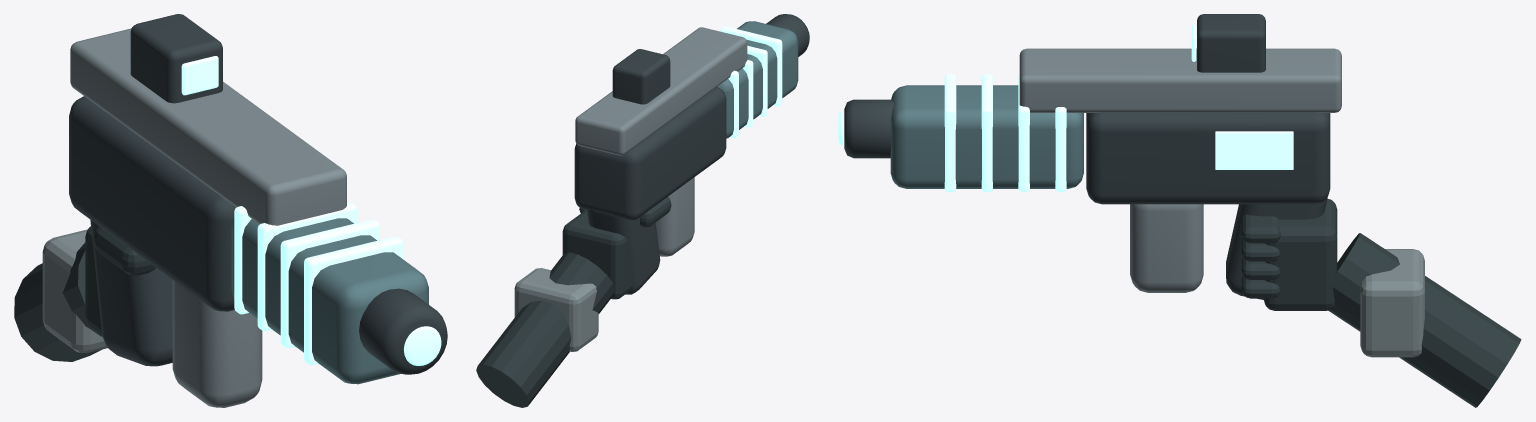
Rendered from pulse-carbine.fbx.
The picture shows the model from 3 angles, left to right: view 1: azimuth 30°, elevation 25°; view 2: azimuth 150°, elevation 25°; view 3: azimuth 270°, elevation 25°; orthographic projection. The views are drawn at different scales.
Parts seen in each view (by area): view 1: Upper rail, Receiver, Coil jacket, Magazine, Grip, Holographic sight, Emitter barrel, Sleeve, Armored cuff, Coil winding.002, Coil winding.003, Coil winding.001 (+5 smaller); view 2: Receiver, Upper rail, Sleeve, Coil jacket, Armored cuff, Gloved palm, Holographic sight, Grip, Magazine, Coil winding.003, Emitter barrel, Coil winding.002 (+3 smaller); view 3: Receiver, Upper rail, Coil jacket, Sleeve, Magazine, Armored cuff, Gloved palm, Holographic sight, Status screen, Emitter barrel, Grip, Coil winding.003 (+7 smaller).
Part boxes in pixels (left/top/right/bottom): Upper rail: left=70, top=28, right=346, bottom=225; Receiver: left=69, top=96, right=235, bottom=311; Coil jacket: left=231, top=218, right=428, bottom=384; Magazine: left=172, top=280, right=262, bottom=407; Grip: left=90, top=220, right=172, bottom=366; Holographic sight: left=130, top=14, right=222, bottom=103; Emitter barrel: left=359, top=288, right=447, bottom=374; Sleeve: left=14, top=242, right=102, bottom=361; Armored cuff: left=42, top=229, right=107, bottom=353; Coil winding.002: left=280, top=219, right=379, bottom=348; Coil winding.003: left=304, top=236, right=403, bottom=365; Coil winding.001: left=257, top=202, right=356, bottom=331; Receiver: left=574, top=87, right=726, bottom=220; Upper rail: left=575, top=27, right=747, bottom=155; Sleeve: left=476, top=252, right=615, bottom=407; Coil jacket: left=717, top=21, right=798, bottom=138; Armored cuff: left=514, top=268, right=598, bottom=351; Gloved palm: left=562, top=210, right=632, bottom=299; Holographic sight: left=612, top=49, right=670, bottom=104; Grip: left=587, top=209, right=660, bottom=294; Magazine: left=655, top=177, right=694, bottom=256; Coil winding.003: left=720, top=26, right=782, bottom=106; Emitter barrel: left=766, top=14, right=809, bottom=56; Coil winding.002: left=747, top=45, right=767, bottom=116; Receiver: left=1086, top=112, right=1330, bottom=204; Upper rail: left=1019, top=48, right=1341, bottom=112; Coil jacket: left=890, top=85, right=1083, bottom=188; Sleeve: left=1328, top=233, right=1521, bottom=407; Magazine: left=1130, top=204, right=1203, bottom=292; Armored cuff: left=1360, top=249, right=1424, bottom=357; Gloved palm: left=1263, top=198, right=1337, bottom=310; Holographic sight: left=1197, top=14, right=1265, bottom=72; Status screen: left=1215, top=131, right=1293, bottom=169; Emitter barrel: left=844, top=99, right=893, bottom=158; Grip: left=1226, top=197, right=1327, bottom=299; Coil winding.003: left=944, top=74, right=956, bottom=191.
Bounding box in the file's own units: 148 × 30.3 × 86.67.
